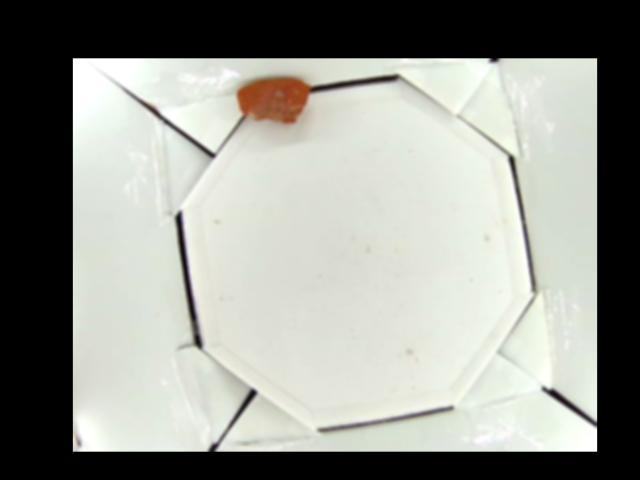Brisk: (236, 75, 312, 123)
